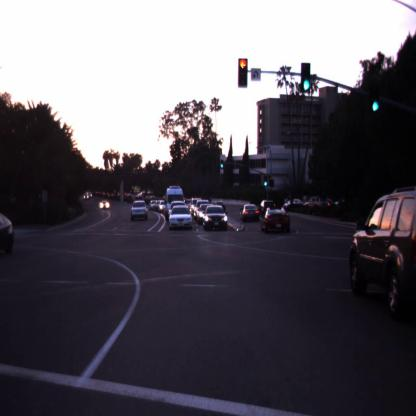trafficlight: (370, 84, 381, 116), (301, 62, 311, 94), (238, 58, 248, 88), (264, 176, 268, 187), (220, 160, 224, 169)
